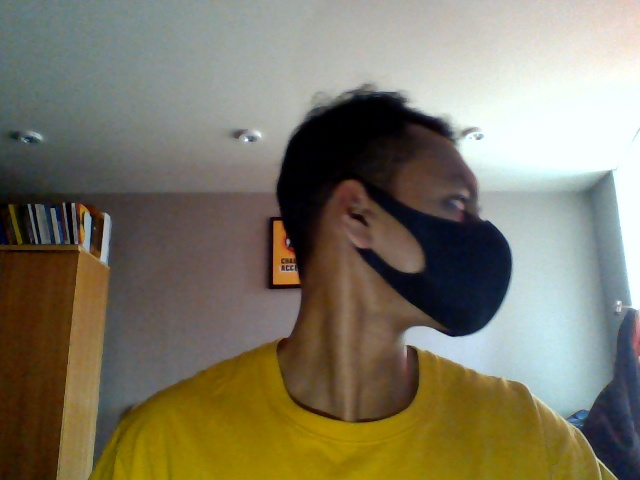mask: (389, 228, 510, 340)
